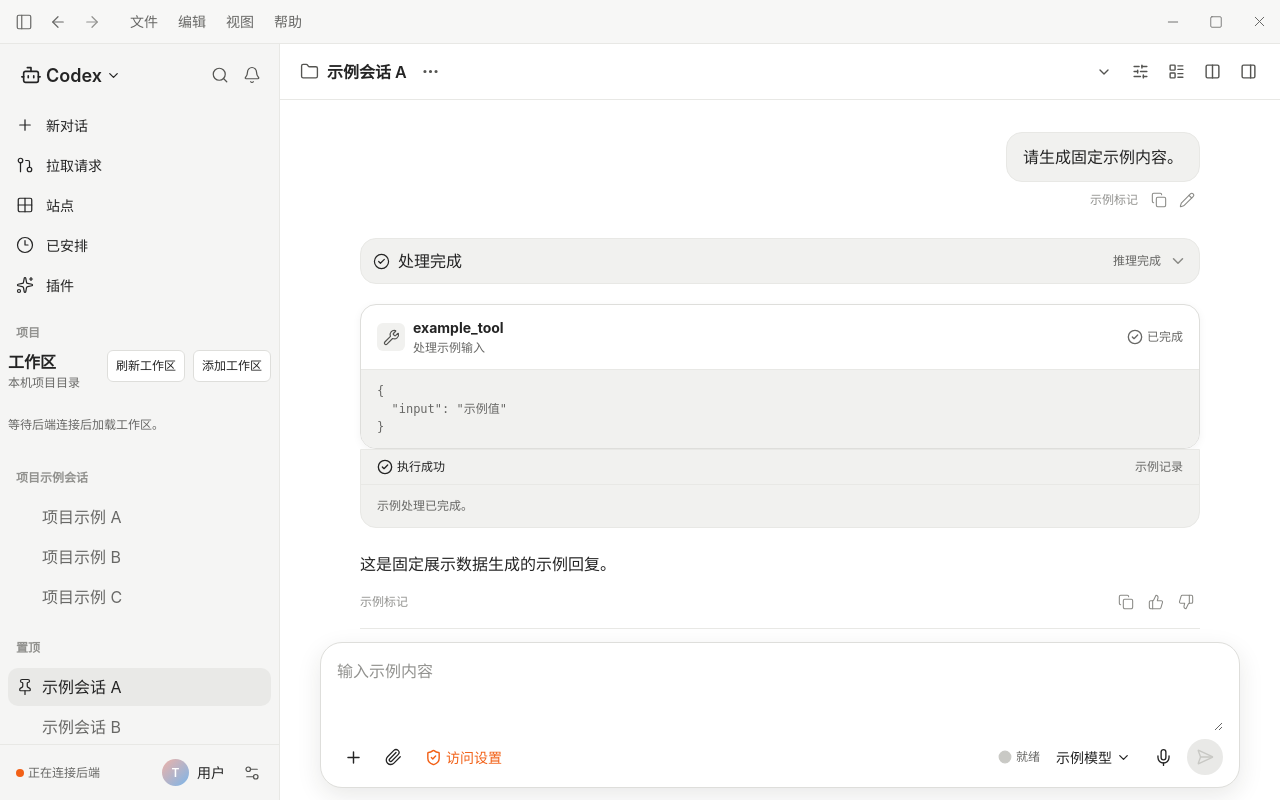
Test case: App Harness › opens the Acceptance Panel from Header Overflow and closes it without changing the completed layout state
Click the button named "更多会话选项".
click(431, 72)  # box [415, 56, 447, 88]
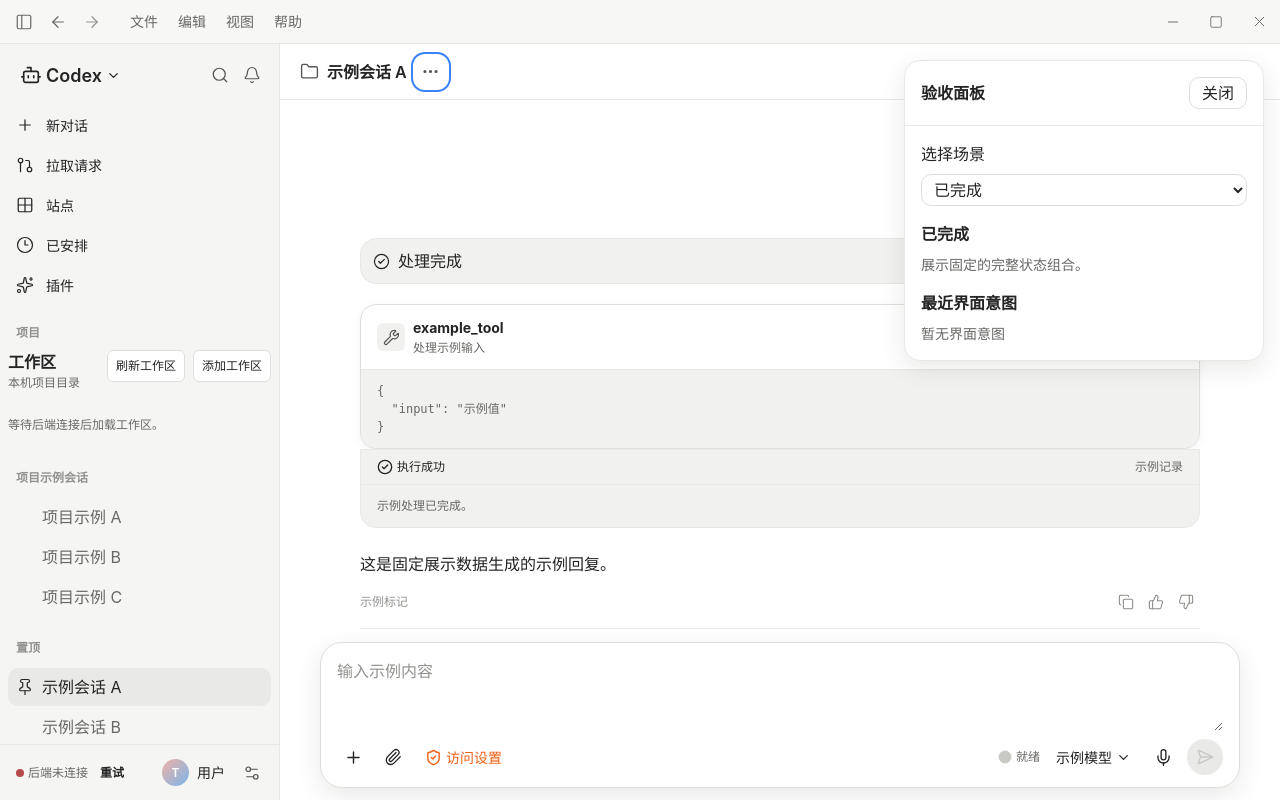
Click the button with aria-label "关闭验收面板".
click(1218, 93)  # box [1189, 77, 1247, 109]
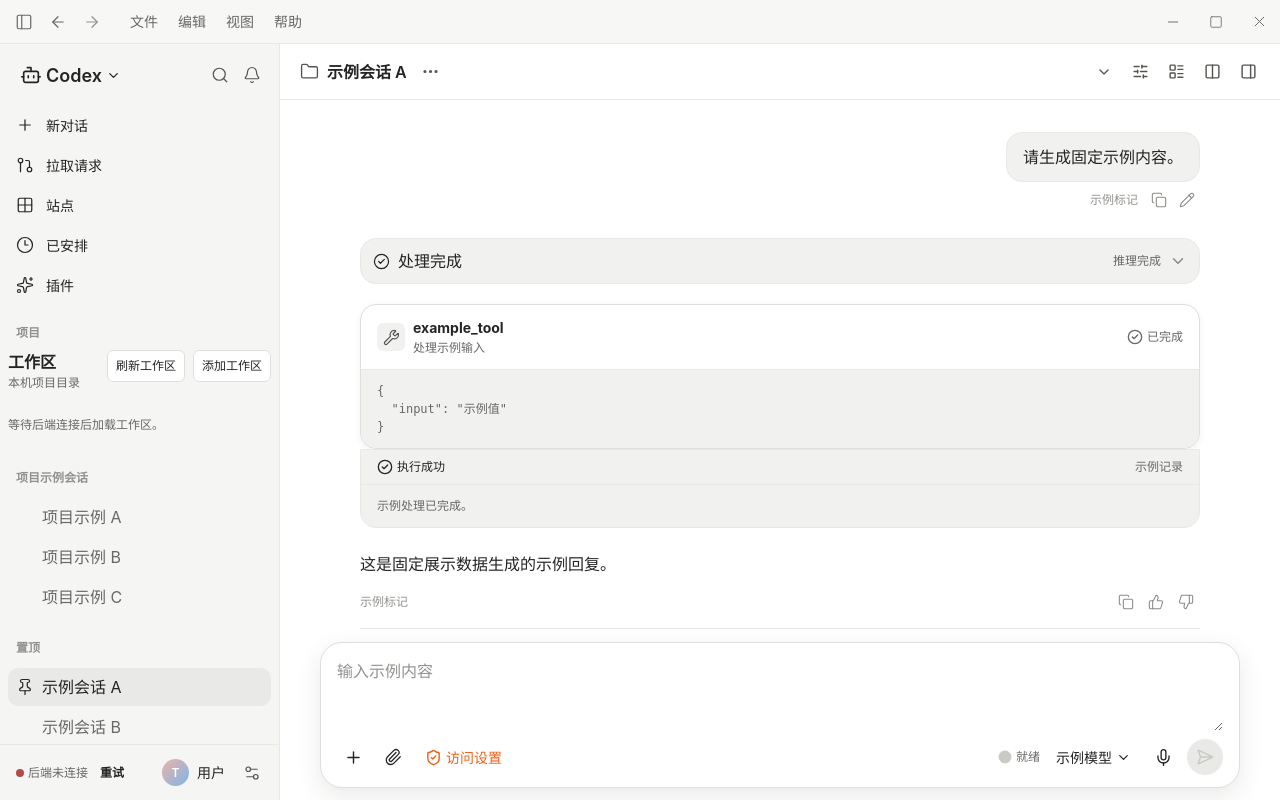
expect the heading "验收面板" is gone: met
